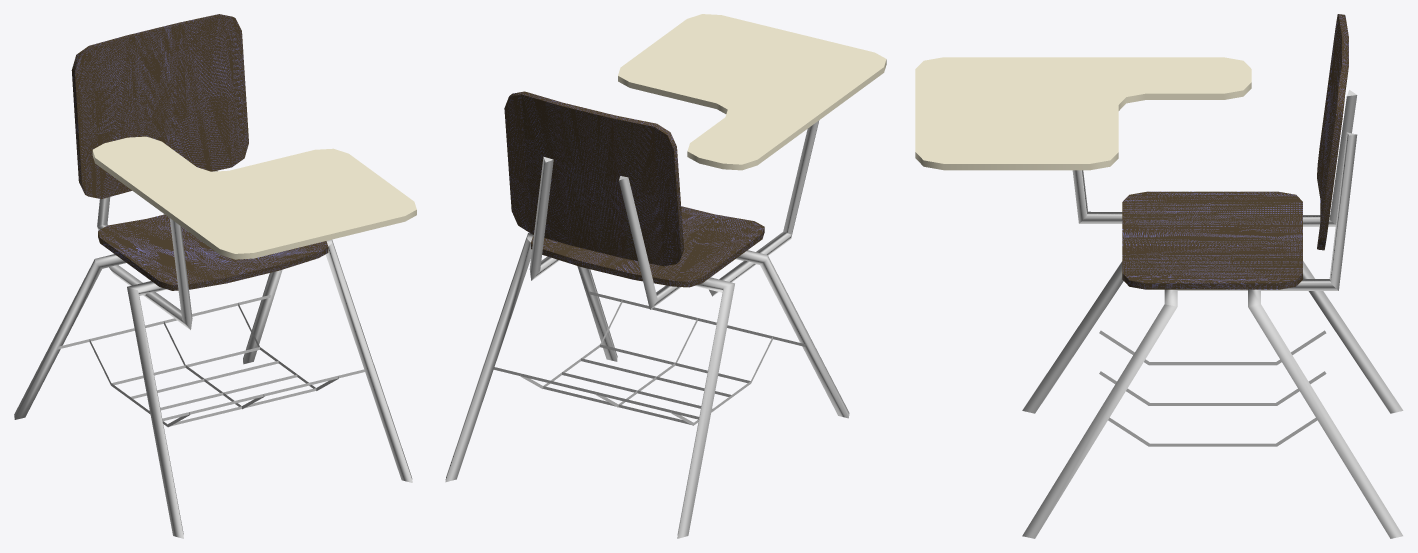
File: modeldesk.dae
3 renders of one model, left to right at view 1: azimuth 30°, elevation 25°; view 2: azimuth 150°, elevation 25°; view 3: azimuth 270°, elevation 25°, orthographic. The views are drawn at different scales.
Visible parts, largest first — view 1: surfaces (×4), desk, legs (×2), bar (×5), back; view 2: surfaces (×4), desk, legs (×2), back (×3), bar (×2); view 3: desk, surfaces (×4), legs (×2), back (×3), bar2 (×3).
Part boxes in pixels (x1,y1,x2,y2): surfaces (×4): [71, 14, 328, 290]; desk: [92, 136, 416, 259]; legs (×2): [14, 239, 412, 538]; bar (×5): [57, 295, 364, 426]; back: [109, 218, 192, 329]; surfaces (×4): [504, 91, 764, 287]; desk: [618, 14, 886, 170]; legs (×2): [445, 233, 849, 538]; back (×3): [529, 120, 819, 309]; bar (×2): [493, 291, 805, 419]; desk: [915, 57, 1251, 170]; surfaces (×4): [1122, 14, 1348, 289]; legs (×2): [1022, 261, 1403, 538]; back (×3): [1072, 90, 1357, 290]; bar2 (×3): [1099, 330, 1326, 446].
Bounding box in the file's own units: 22.12 × 34.83 × 33.29.
